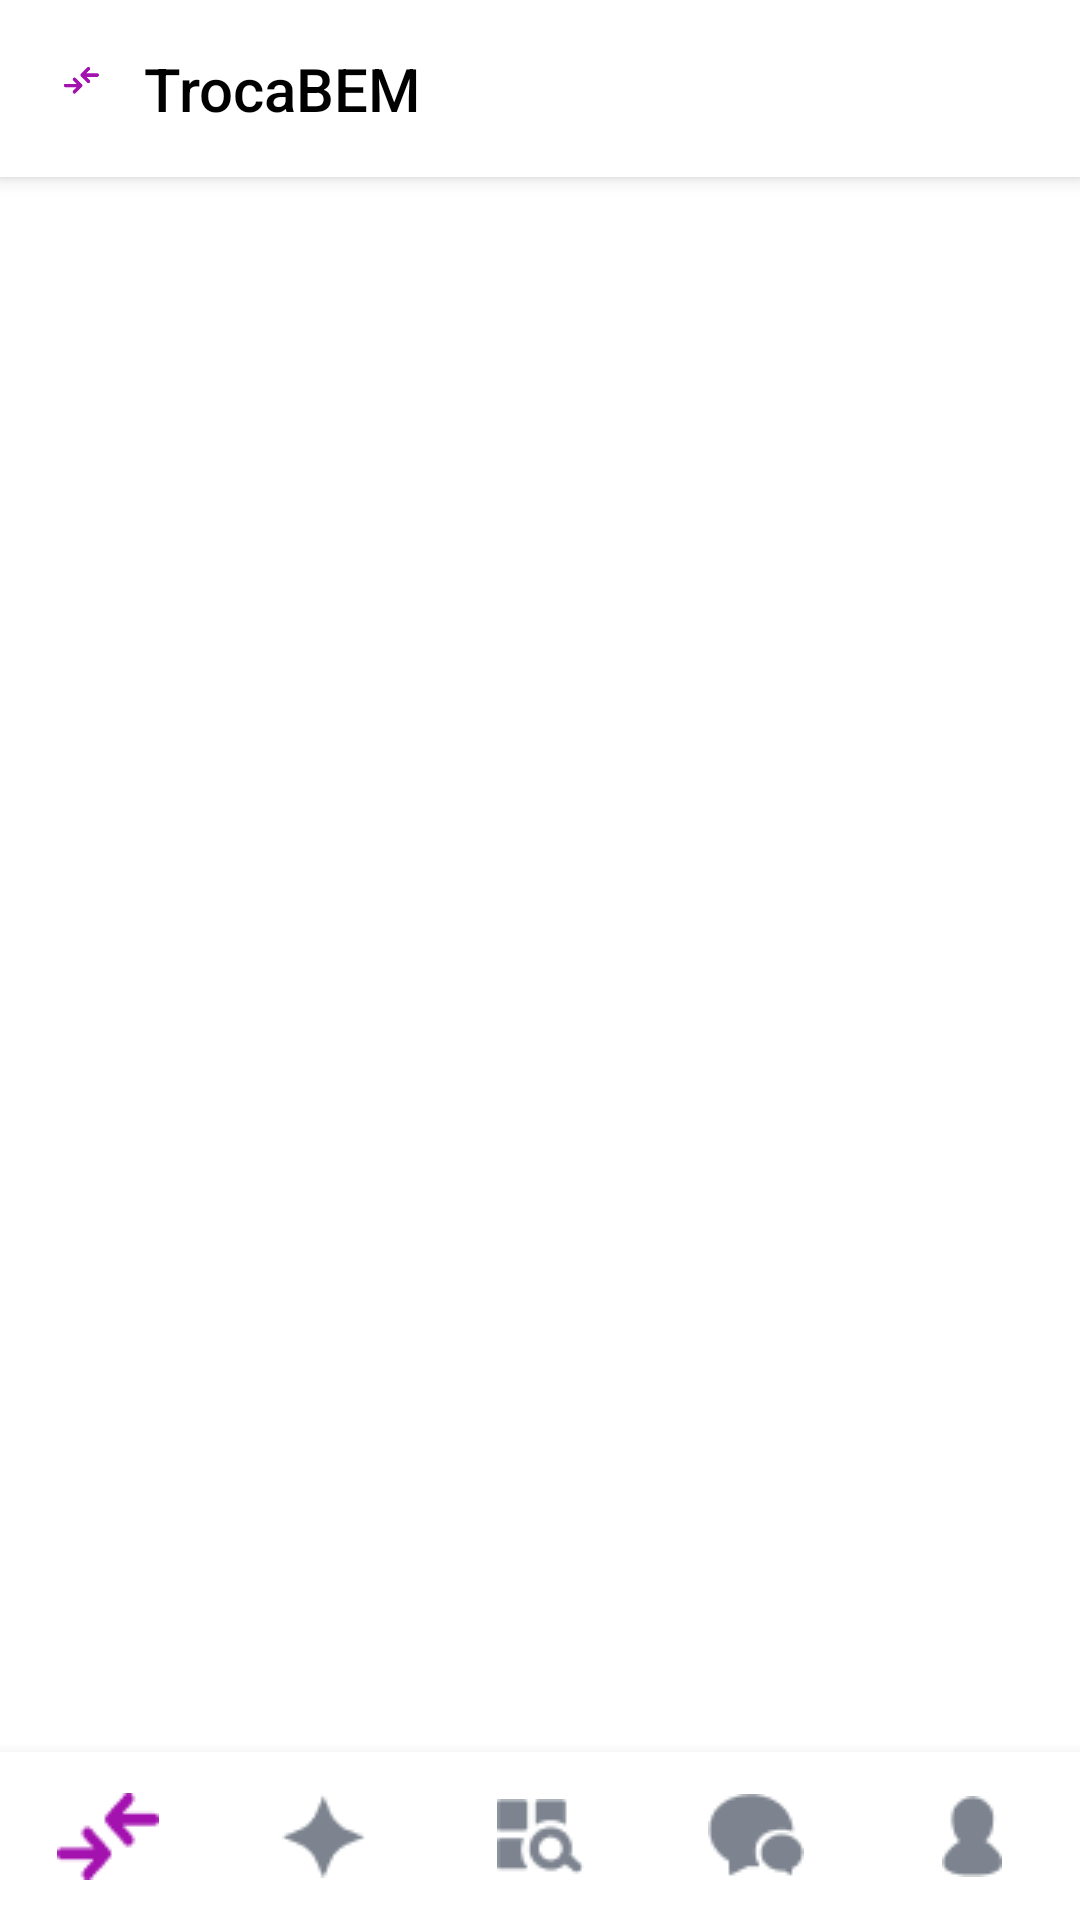

Icon click points for this 1080×1920 phone screenshot, format (x,y):
chat: (756,1835)
profile: (972,1836)
star: (324,1837)
